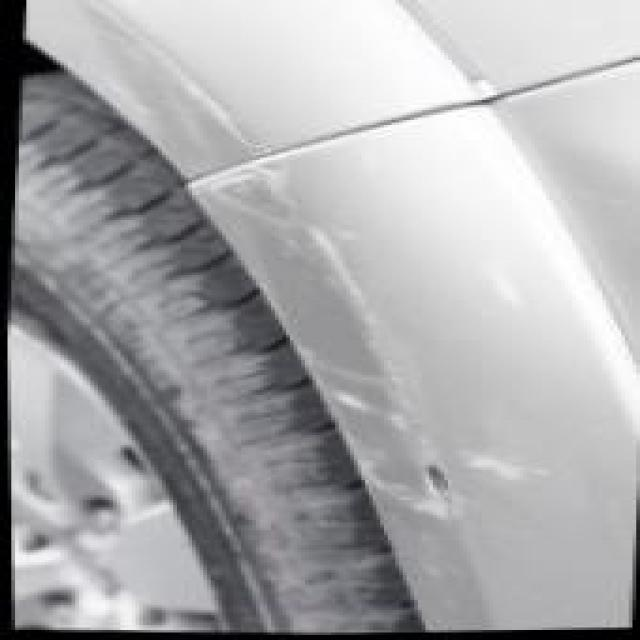Bumper: (188, 97, 640, 592)
